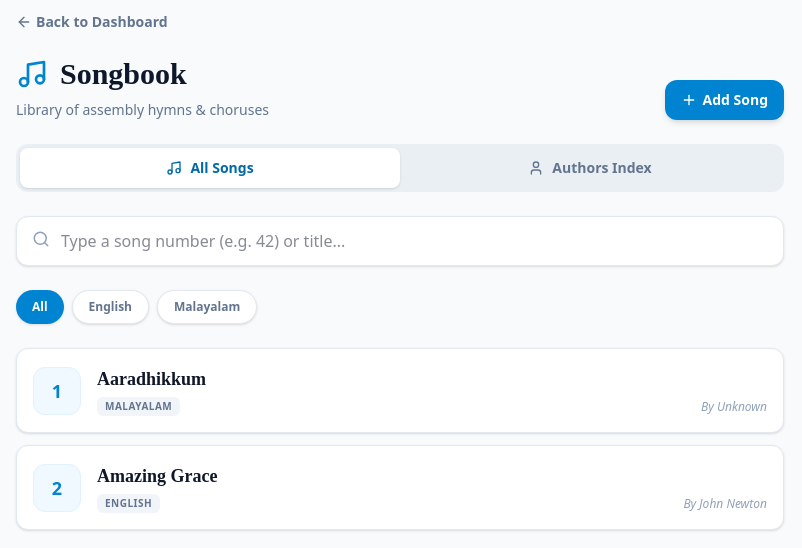
Test: content page workflows › browses the songbook by search, language, and author
This screenshot has width=802, height=548.
Expected: the heading "Aaradhikkum" is shown, [97, 365, 222, 393]
Expected: the heading "Amazing Grace" is shown, [97, 462, 234, 490]
Click the button "Malayalam". click: (207, 307)
box: [157, 290, 257, 324]
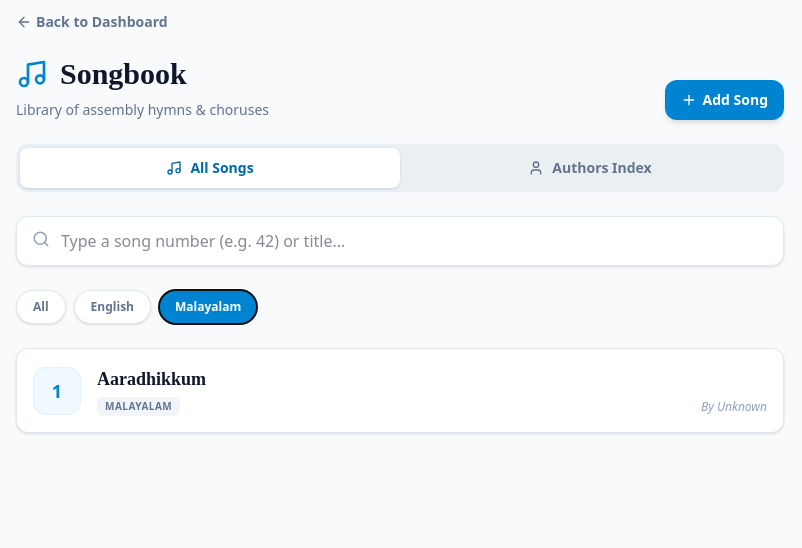
Expected: the heading "Aaradhikkum" is shown, [97, 365, 222, 393]
Expected: the link "Amazing Grace" is gone
Click the button "Authors Index". click: (590, 168)
box: [400, 148, 780, 188]
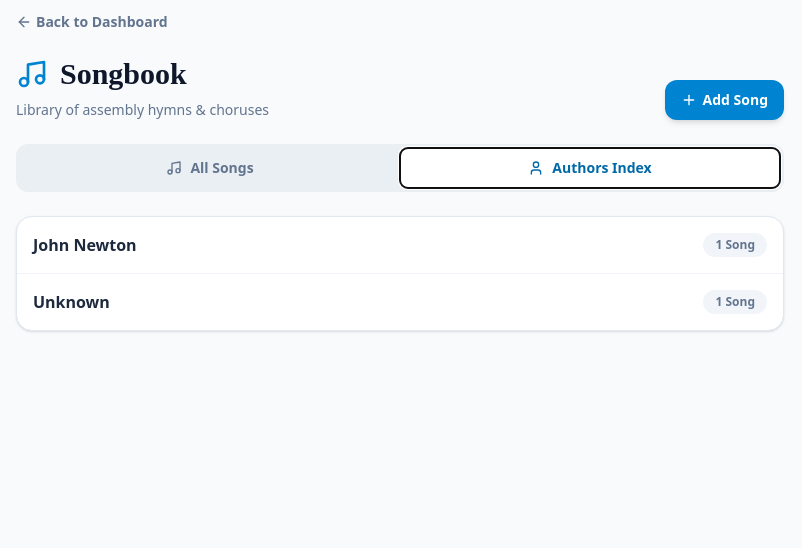
Expected: the button "John Newton 1 Song" is shown
Click the button "John Newton 1 Song". click: (85, 245)
box: [17, 217, 783, 274]
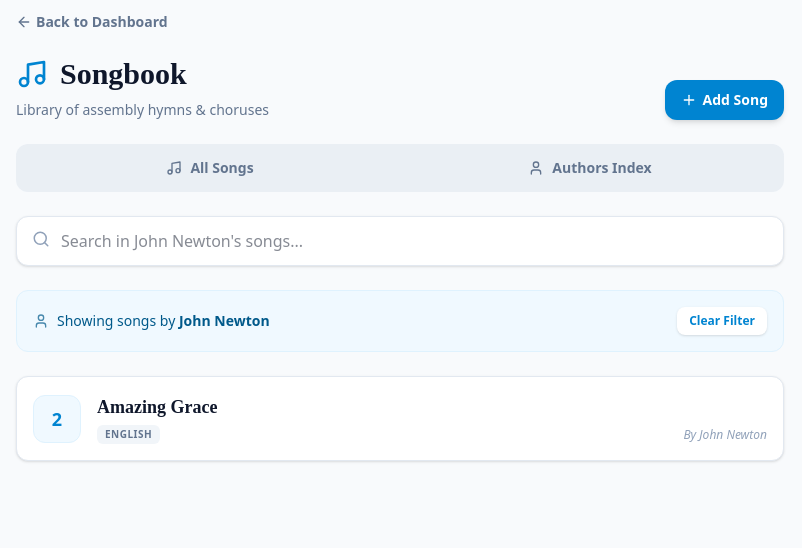
Expected: the text "Showing songs by John Newton" is shown, [33, 311, 270, 331]
Expected: the heading "Amazing Grace" is shown, [97, 393, 234, 421]
